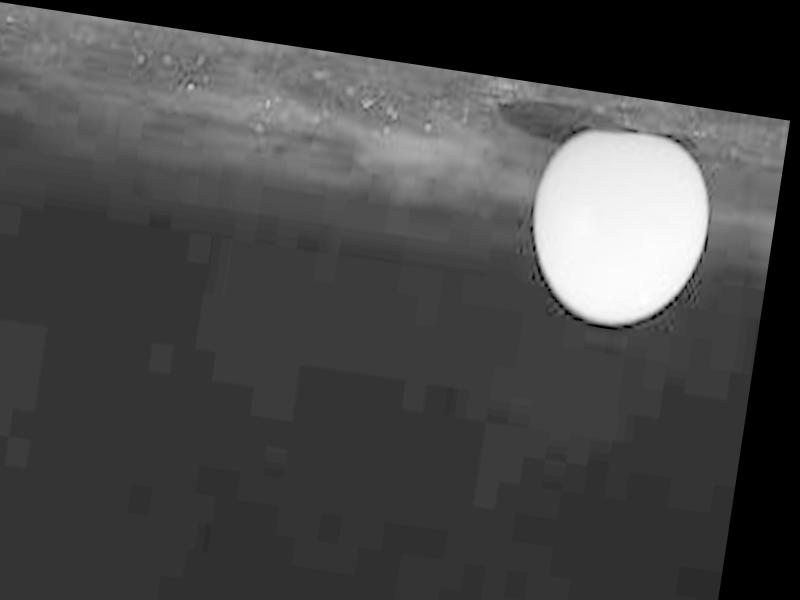Eggs: (518, 123, 717, 336)
